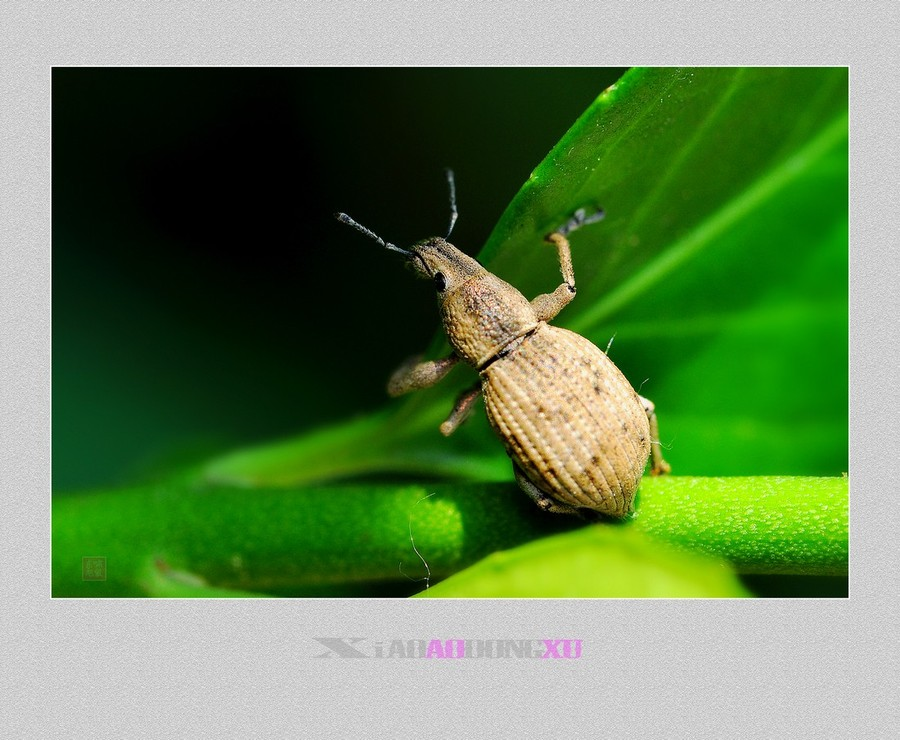chunchong: (363, 219, 667, 533)
